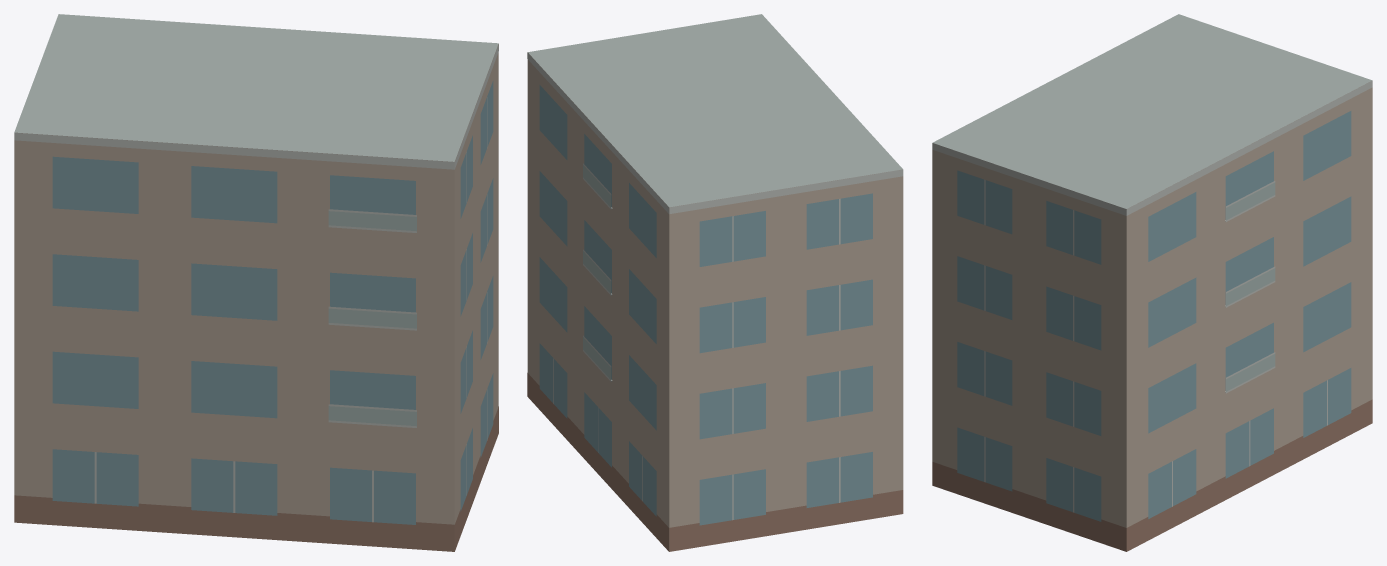
Rendered from residential-5ba60185-fa0e-4ac1-b362-12d94fea5107.glb.
3 views of the same model, side by side, from view 1: azimuth 30°, elevation 25°; view 2: azimuth 150°, elevation 25°; view 3: azimuth 270°, elevation 25° (orthographic). The views are drawn at different scales.
Visible parts, largest first — view 1: residential-5ba60185-fa0e-4ac1-b362-12d94fea5107.tmp; view 2: residential-5ba60185-fa0e-4ac1-b362-12d94fea5107.tmp; view 3: residential-5ba60185-fa0e-4ac1-b362-12d94fea5107.tmp.
Boxes of the visible parts, x1,y1,x2,y2 form: residential-5ba60185-fa0e-4ac1-b362-12d94fea5107.tmp: (14, 14, 498, 551); residential-5ba60185-fa0e-4ac1-b362-12d94fea5107.tmp: (527, 14, 903, 551); residential-5ba60185-fa0e-4ac1-b362-12d94fea5107.tmp: (932, 14, 1372, 551).
Bounding box in the file's own units: 14.9 × 12.2 × 14.21.
